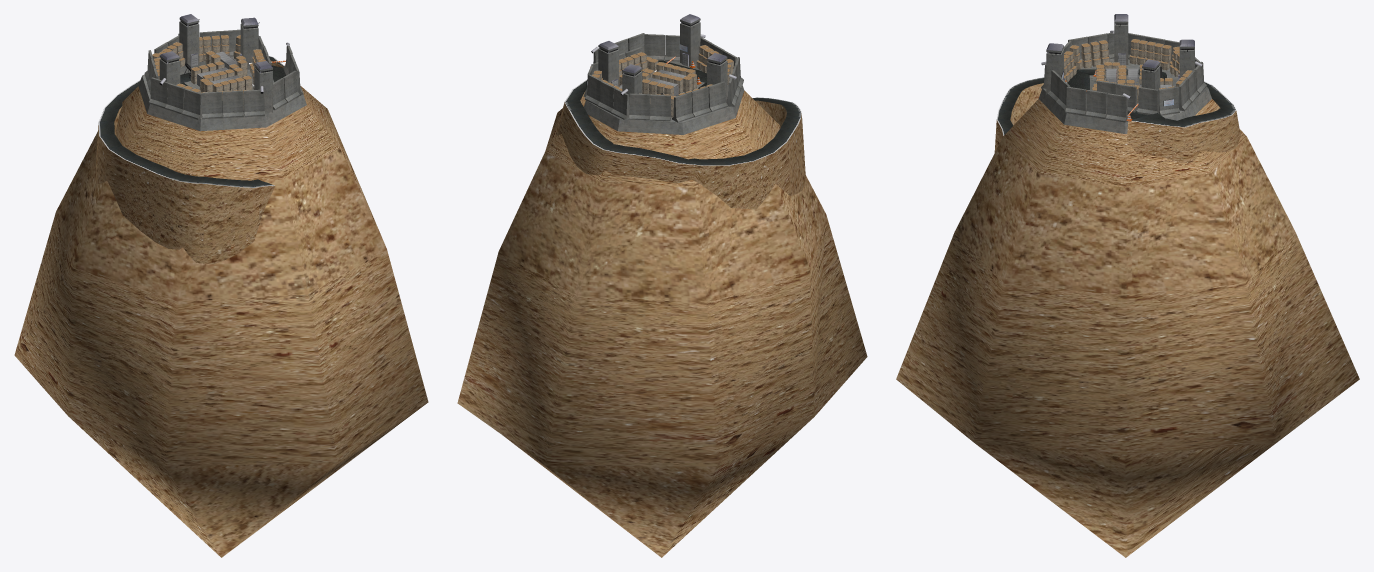
The model's file is objective_combatOutpost.dae.
3 renders of one model, left to right at view 1: azimuth 30°, elevation 25°; view 2: azimuth 150°, elevation 25°; view 3: azimuth 270°, elevation 25°, orthographic.
Visible parts, largest first — view 1: CombatOutPost; view 2: CombatOutPost; view 3: CombatOutPost.
Part boxes in pixels (<box>): CombatOutPost: <box>14,14,428,557</box>; CombatOutPost: <box>457,14,867,557</box>; CombatOutPost: <box>896,14,1359,557</box>.
Size of the model in its own units: 8967 by 14342 by 11702.
